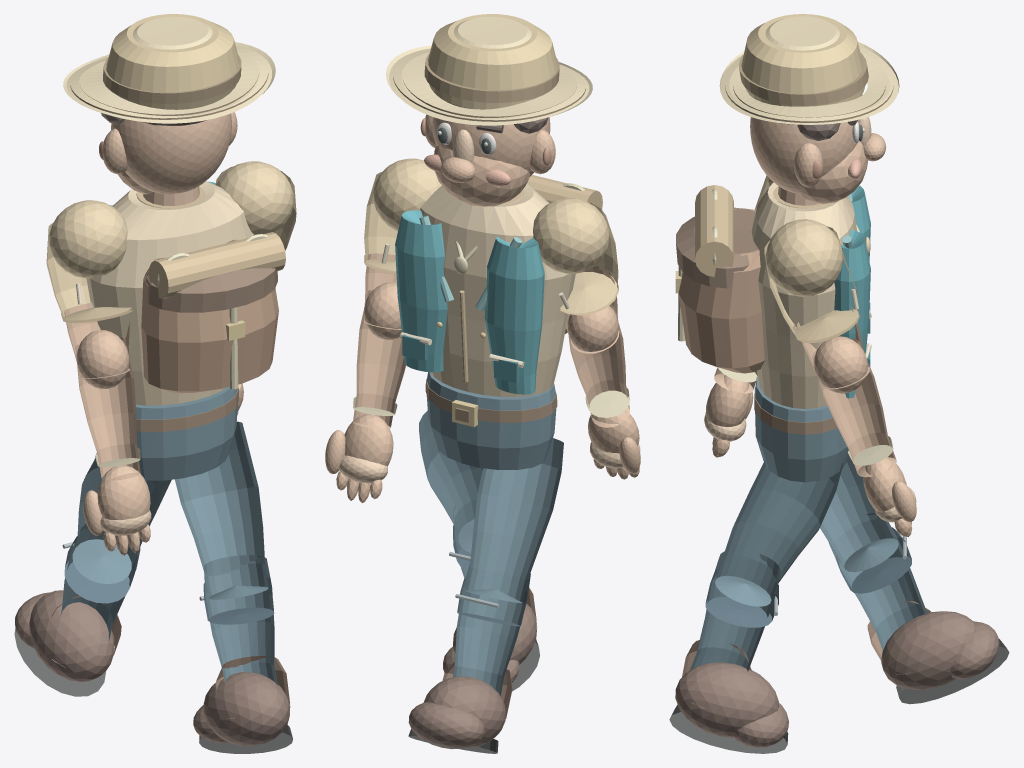
Rendered from A05_walk_weighted_pose_diagnostic.glb.
The picture shows the model from 3 angles, left to right: view 1: azimuth 30°, elevation 25°; view 2: azimuth 150°, elevation 25°; view 3: azimuth 270°, elevation 25°; orthographic projection. The views are drawn at different scales.
Visible parts, largest first — view 1: world; view 2: world; view 3: world.
Boxes of the visible parts, x1,y1,x2,y2 form: world: (14,14,296,753); world: (325,14,640,753); world: (669,14,1009,753).
Bounding box in the file's own units: 0.676 × 1.86 × 0.824.
